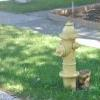a fire hydrant: (57, 21, 81, 91)
